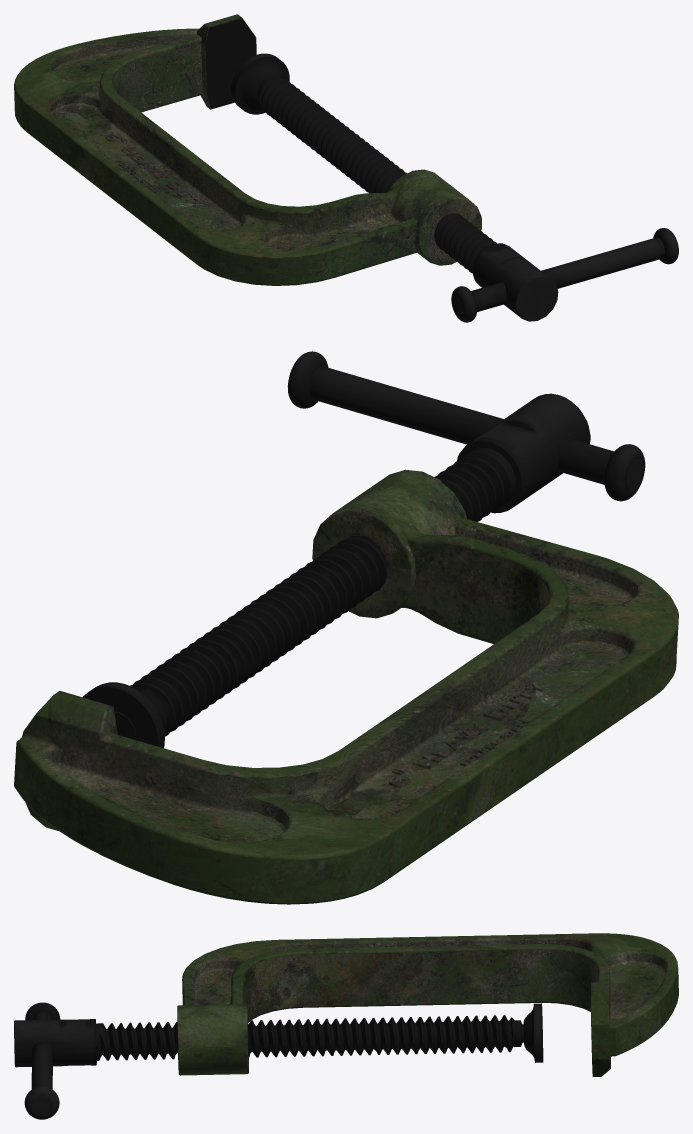
The model's file is clamp.fbx.
3 views of the same model, one above another, from view 1: azimuth 30°, elevation 25°; view 2: azimuth 150°, elevation 25°; view 3: azimuth 270°, elevation 25° (orthographic). The views are drawn at different scales.
Parts seen in each view (by area): view 1: Clamp, Screw; view 2: Clamp, Screw; view 3: Clamp, Screw.
Boxes of the visible parts, x1,y1,x2,y2 form: Clamp: (14,14,481,285); Screw: (132,53,678,322); Clamp: (14,469,678,904); Screw: (82,351,645,766); Clamp: (177,933,678,1076); Screw: (14,958,543,1119).
Bounding box in the file's own units: 648 × 150 × 1120.
